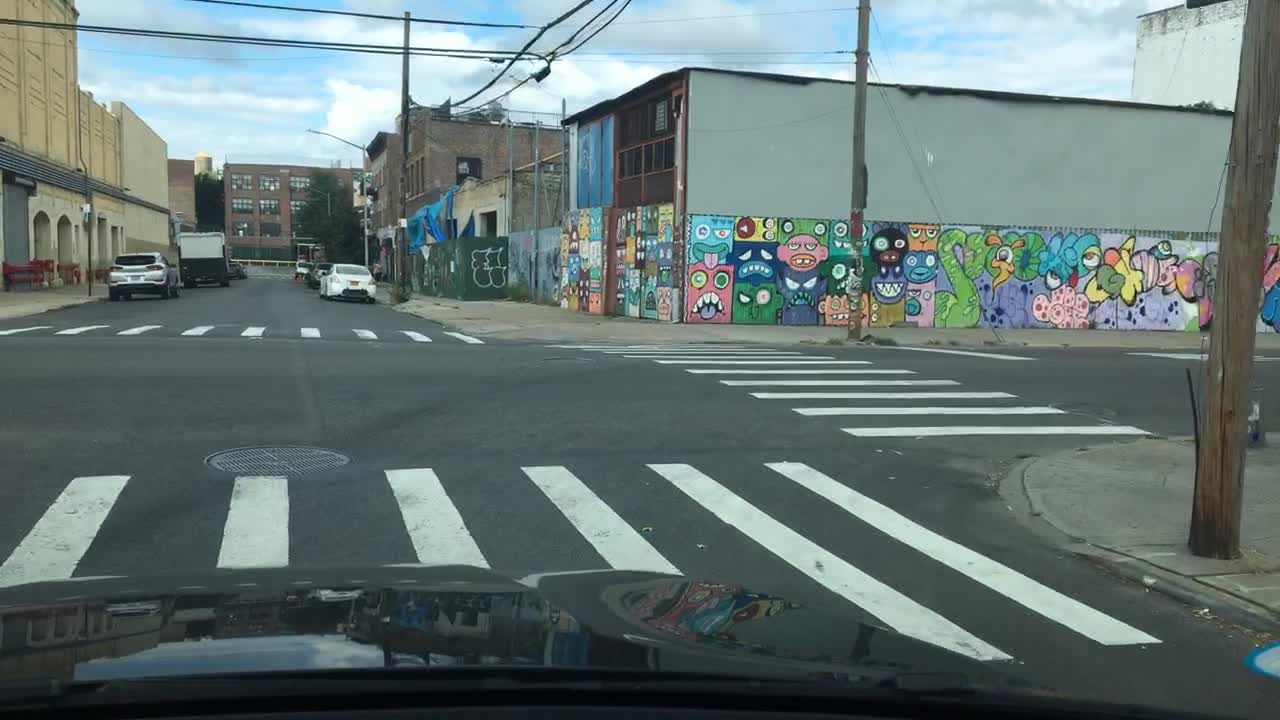car: (107, 251, 181, 300), (319, 262, 378, 303), (309, 260, 331, 288), (226, 261, 248, 279), (292, 260, 310, 278)
traffic sign: (397, 215, 409, 230), (80, 202, 92, 212)
truck: (175, 231, 231, 290)
